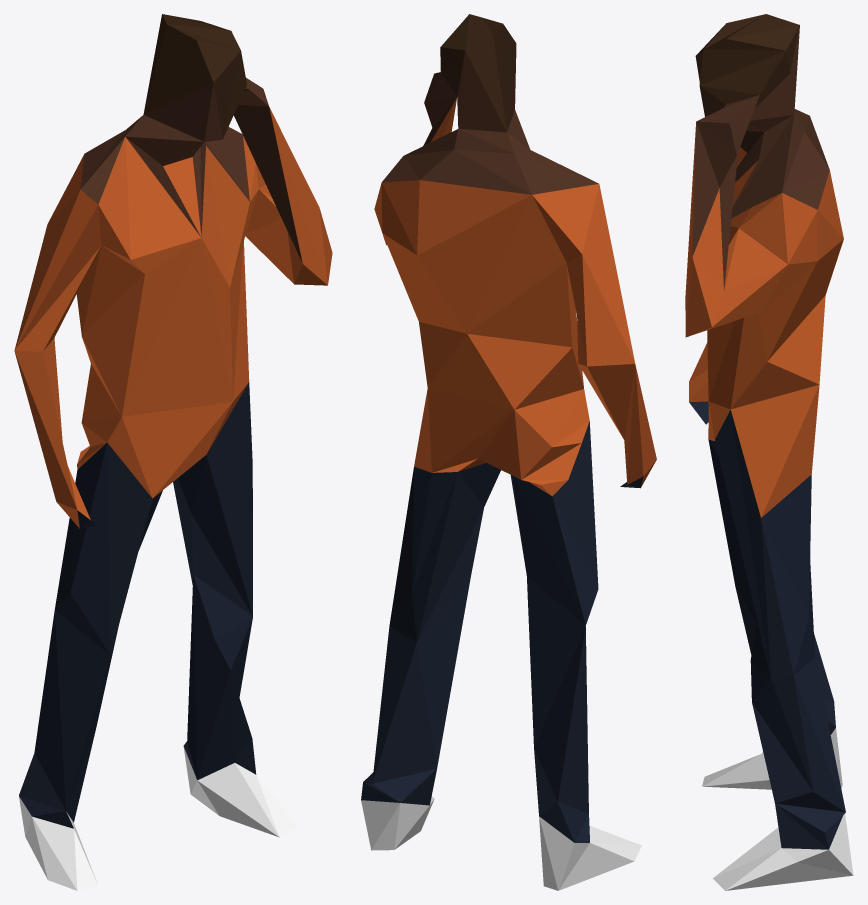
File: walker-34.glb
3 views of the same model, side by side, from view 1: azimuth 30°, elevation 25°; view 2: azimuth 150°, elevation 25°; view 3: azimuth 270°, elevation 25° (orthographic). The views are drawn at different scales.
Parts seen in each view (by area): view 1: Man06; view 2: Man06; view 3: Man06.
Part boxes in pixels (bbox=[...]): Man06: bbox=[14, 14, 332, 890]; Man06: bbox=[361, 14, 656, 890]; Man06: bbox=[685, 14, 853, 890].
Size of the model in its own units: 0.6089 by 1.65 by 0.3064.
